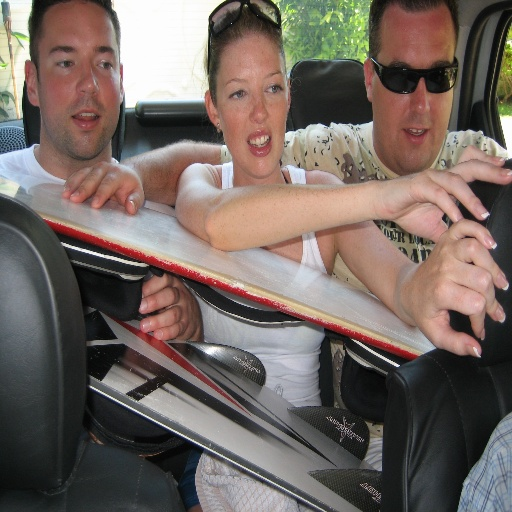hand: (400, 217, 510, 359), (378, 142, 511, 246), (58, 152, 146, 217), (137, 271, 201, 342)
